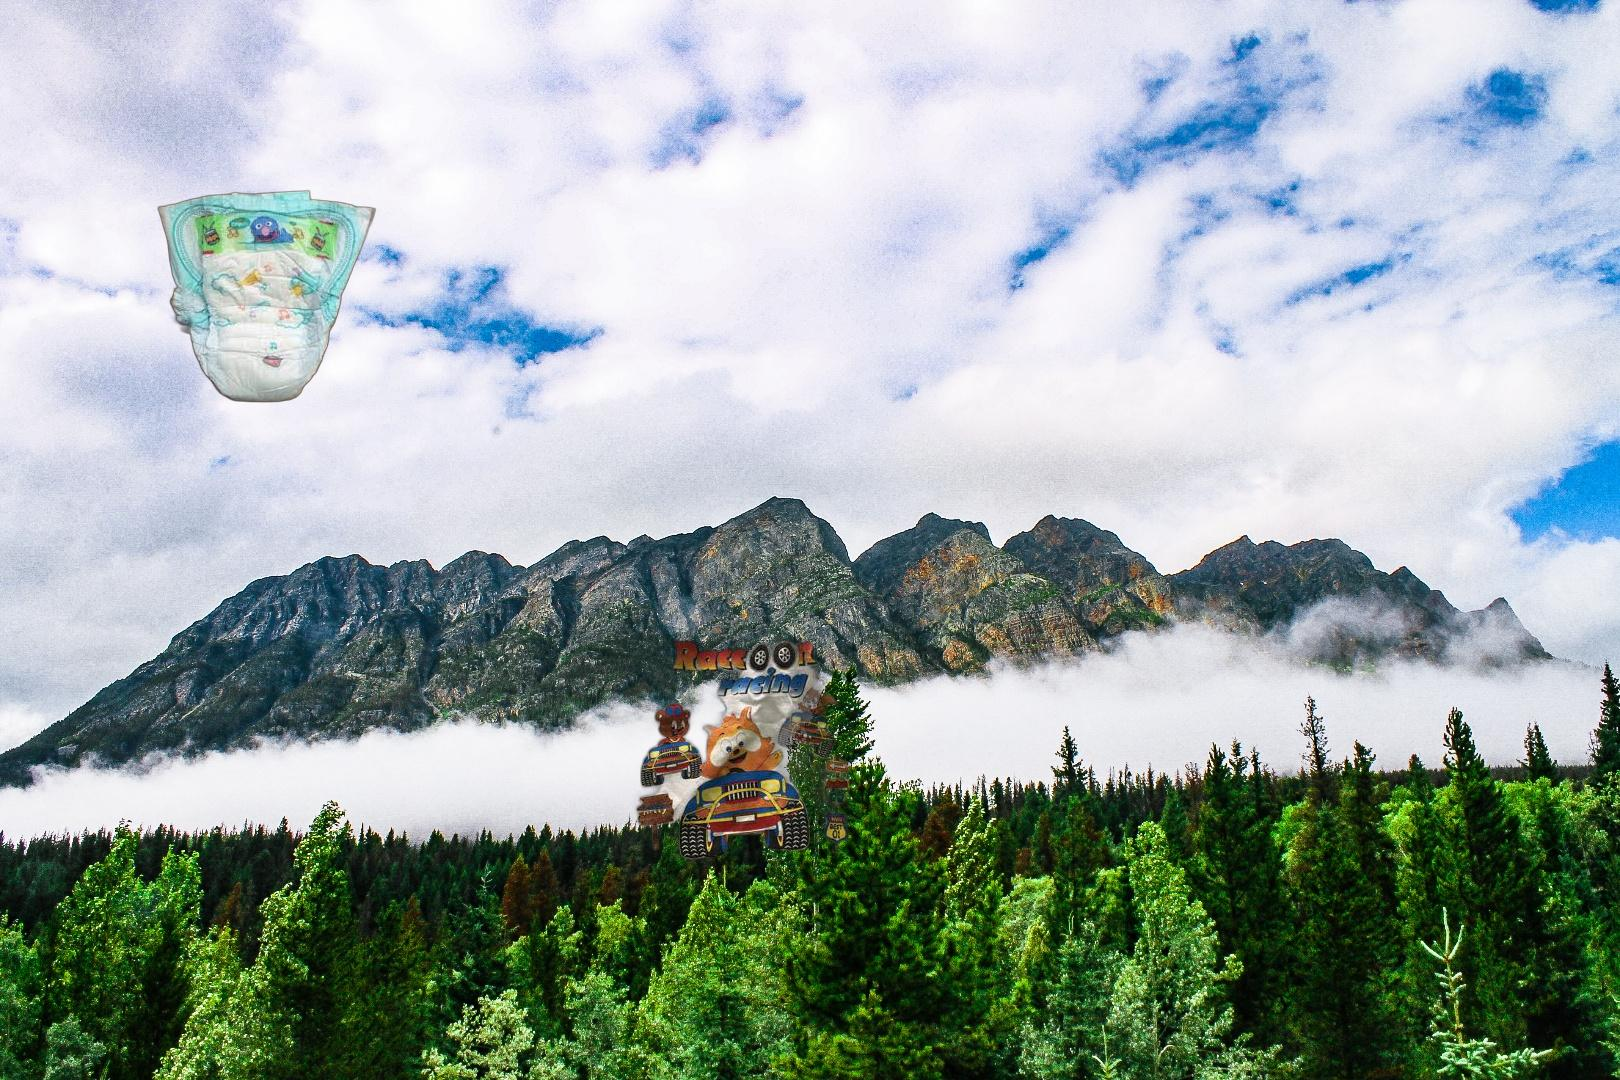clothes: (630, 635, 891, 865)
trash: (155, 188, 378, 405)
